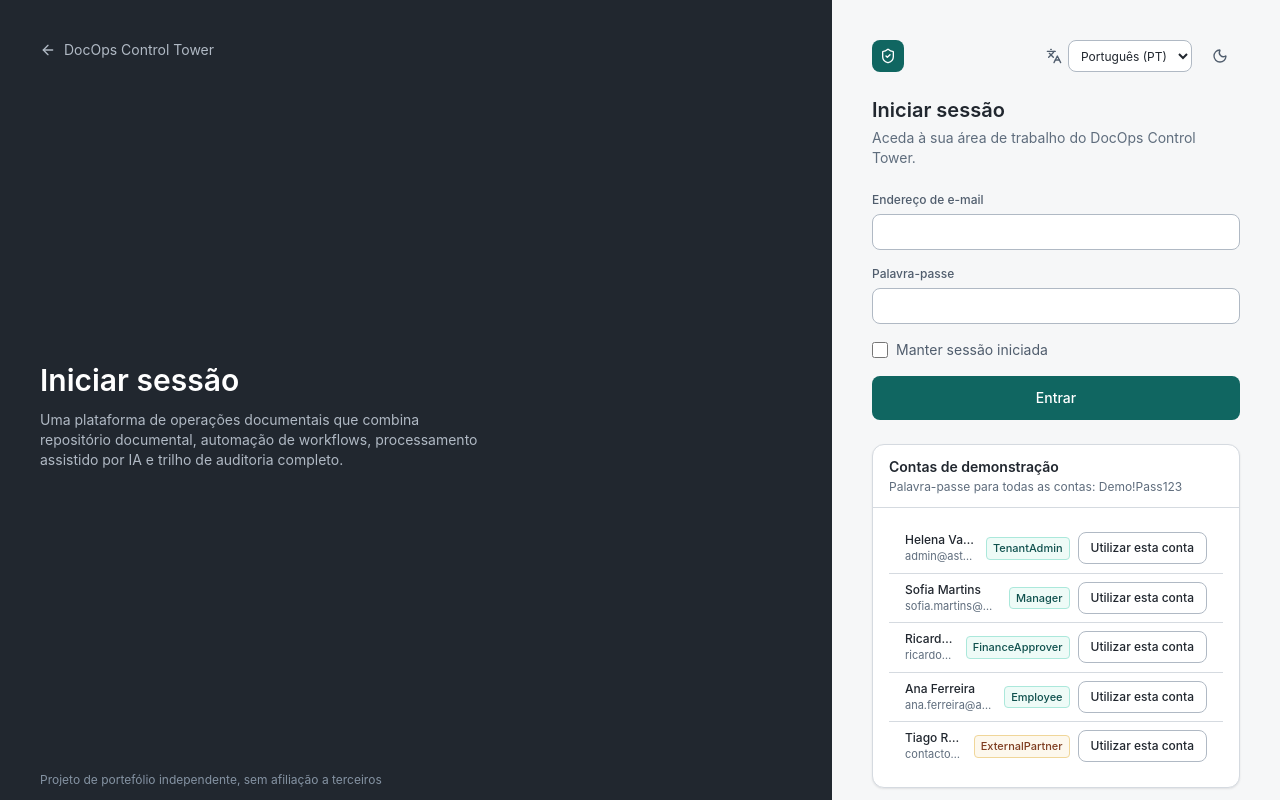
Test: LoginPage › fills the form from a demo account row
What coordinates should you click on to do the following:
click the button "Utilizar esta conta" next to "TenantAdmin"
I would click on:
 (1142, 548)
Its box is [1078,532,1207,564].
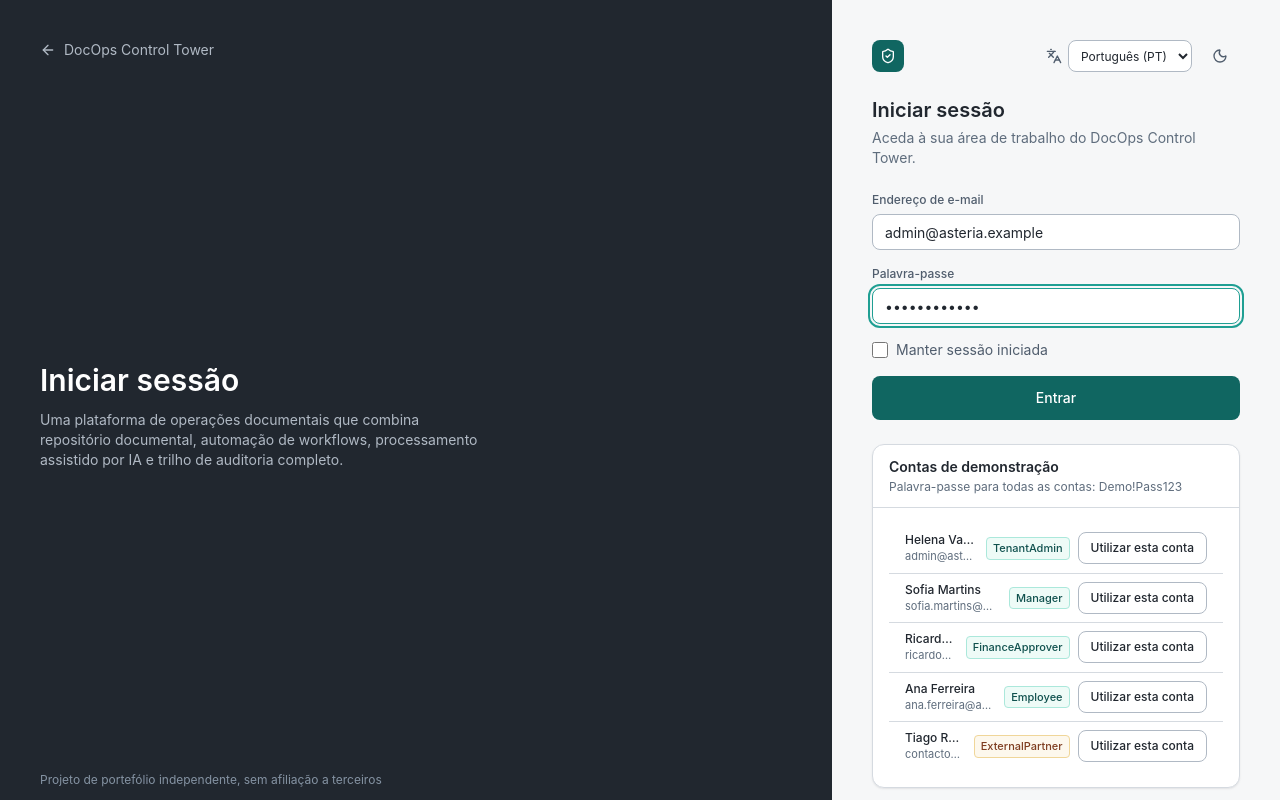
Check: the field labelled "Endereço de e-mail" holds "admin@asteria.example", box [872,214,1240,250]
Check: the password field labelled "Palavra-passe" holds "Demo!Pass123", box [872,288,1240,324]
